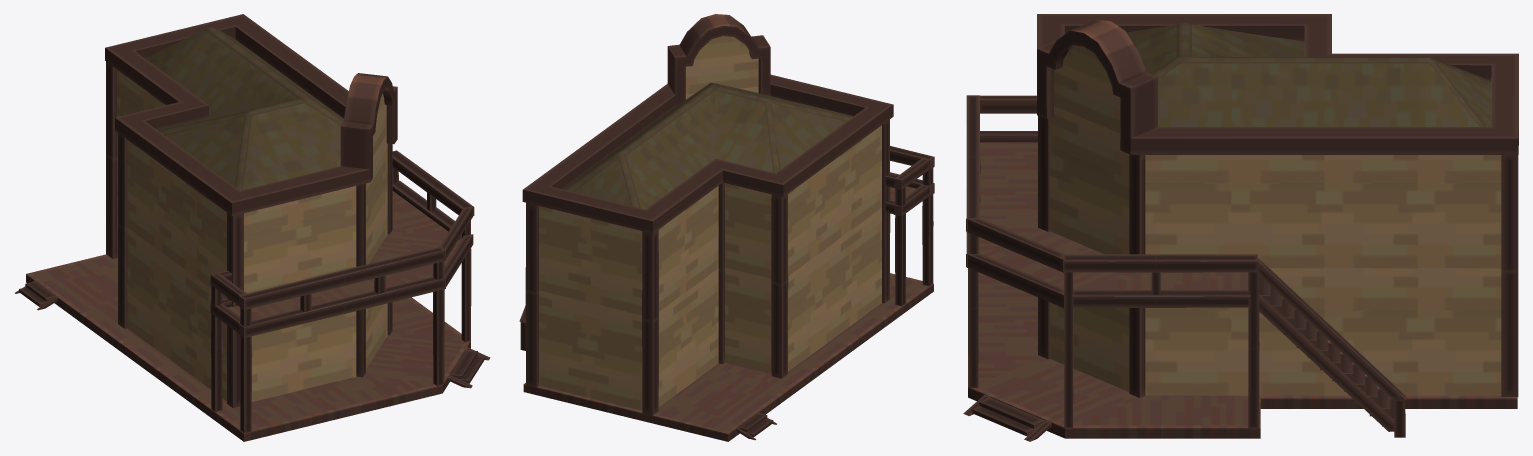
Rendered from house_v4_blank_ncl1_6.fbx.
The picture shows the model from 3 angles, left to right: view 1: azimuth 30°, elevation 25°; view 2: azimuth 150°, elevation 25°; view 3: azimuth 270°, elevation 25°; orthographic projection. The views are drawn at different scales.
Parts seen in each view (by area): view 1: house_v4_blank; view 2: house_v4_blank; view 3: house_v4_blank.
Part boxes in pixels (x1,y1,x2,y2): house_v4_blank: (15,14,490,441); house_v4_blank: (519,14,934,441); house_v4_blank: (963,14,1518,441).
Size of the model in its own units: 906 by 842 by 1189.
